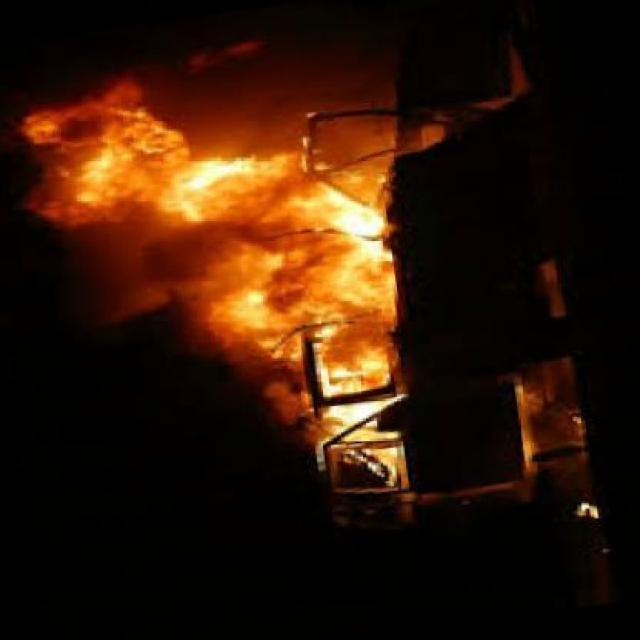Fire: (27, 70, 446, 440)
